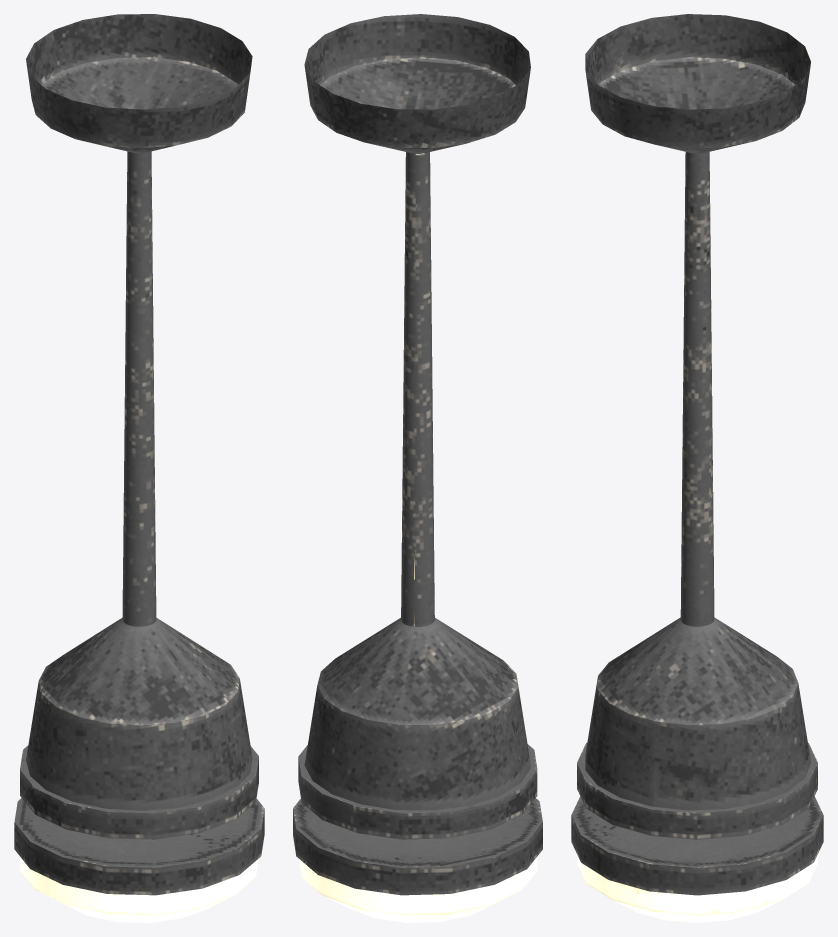
The model's file is CeilingFanMain.fbx.
3 views of the same model, side by side, from view 1: azimuth 30°, elevation 25°; view 2: azimuth 150°, elevation 25°; view 3: azimuth 270°, elevation 25° (orthographic).
Visible parts, largest first — view 1: CeilingFanMain; view 2: CeilingFanMain; view 3: CeilingFanMain.
Boxes of the visible parts, x1,y1,x2,y2 form: CeilingFanMain: (14,14,264,922); CeilingFanMain: (293,14,542,922); CeilingFanMain: (571,14,823,922).
Size of the model in its own units: 19.89 by 19.89 by 71.83.
